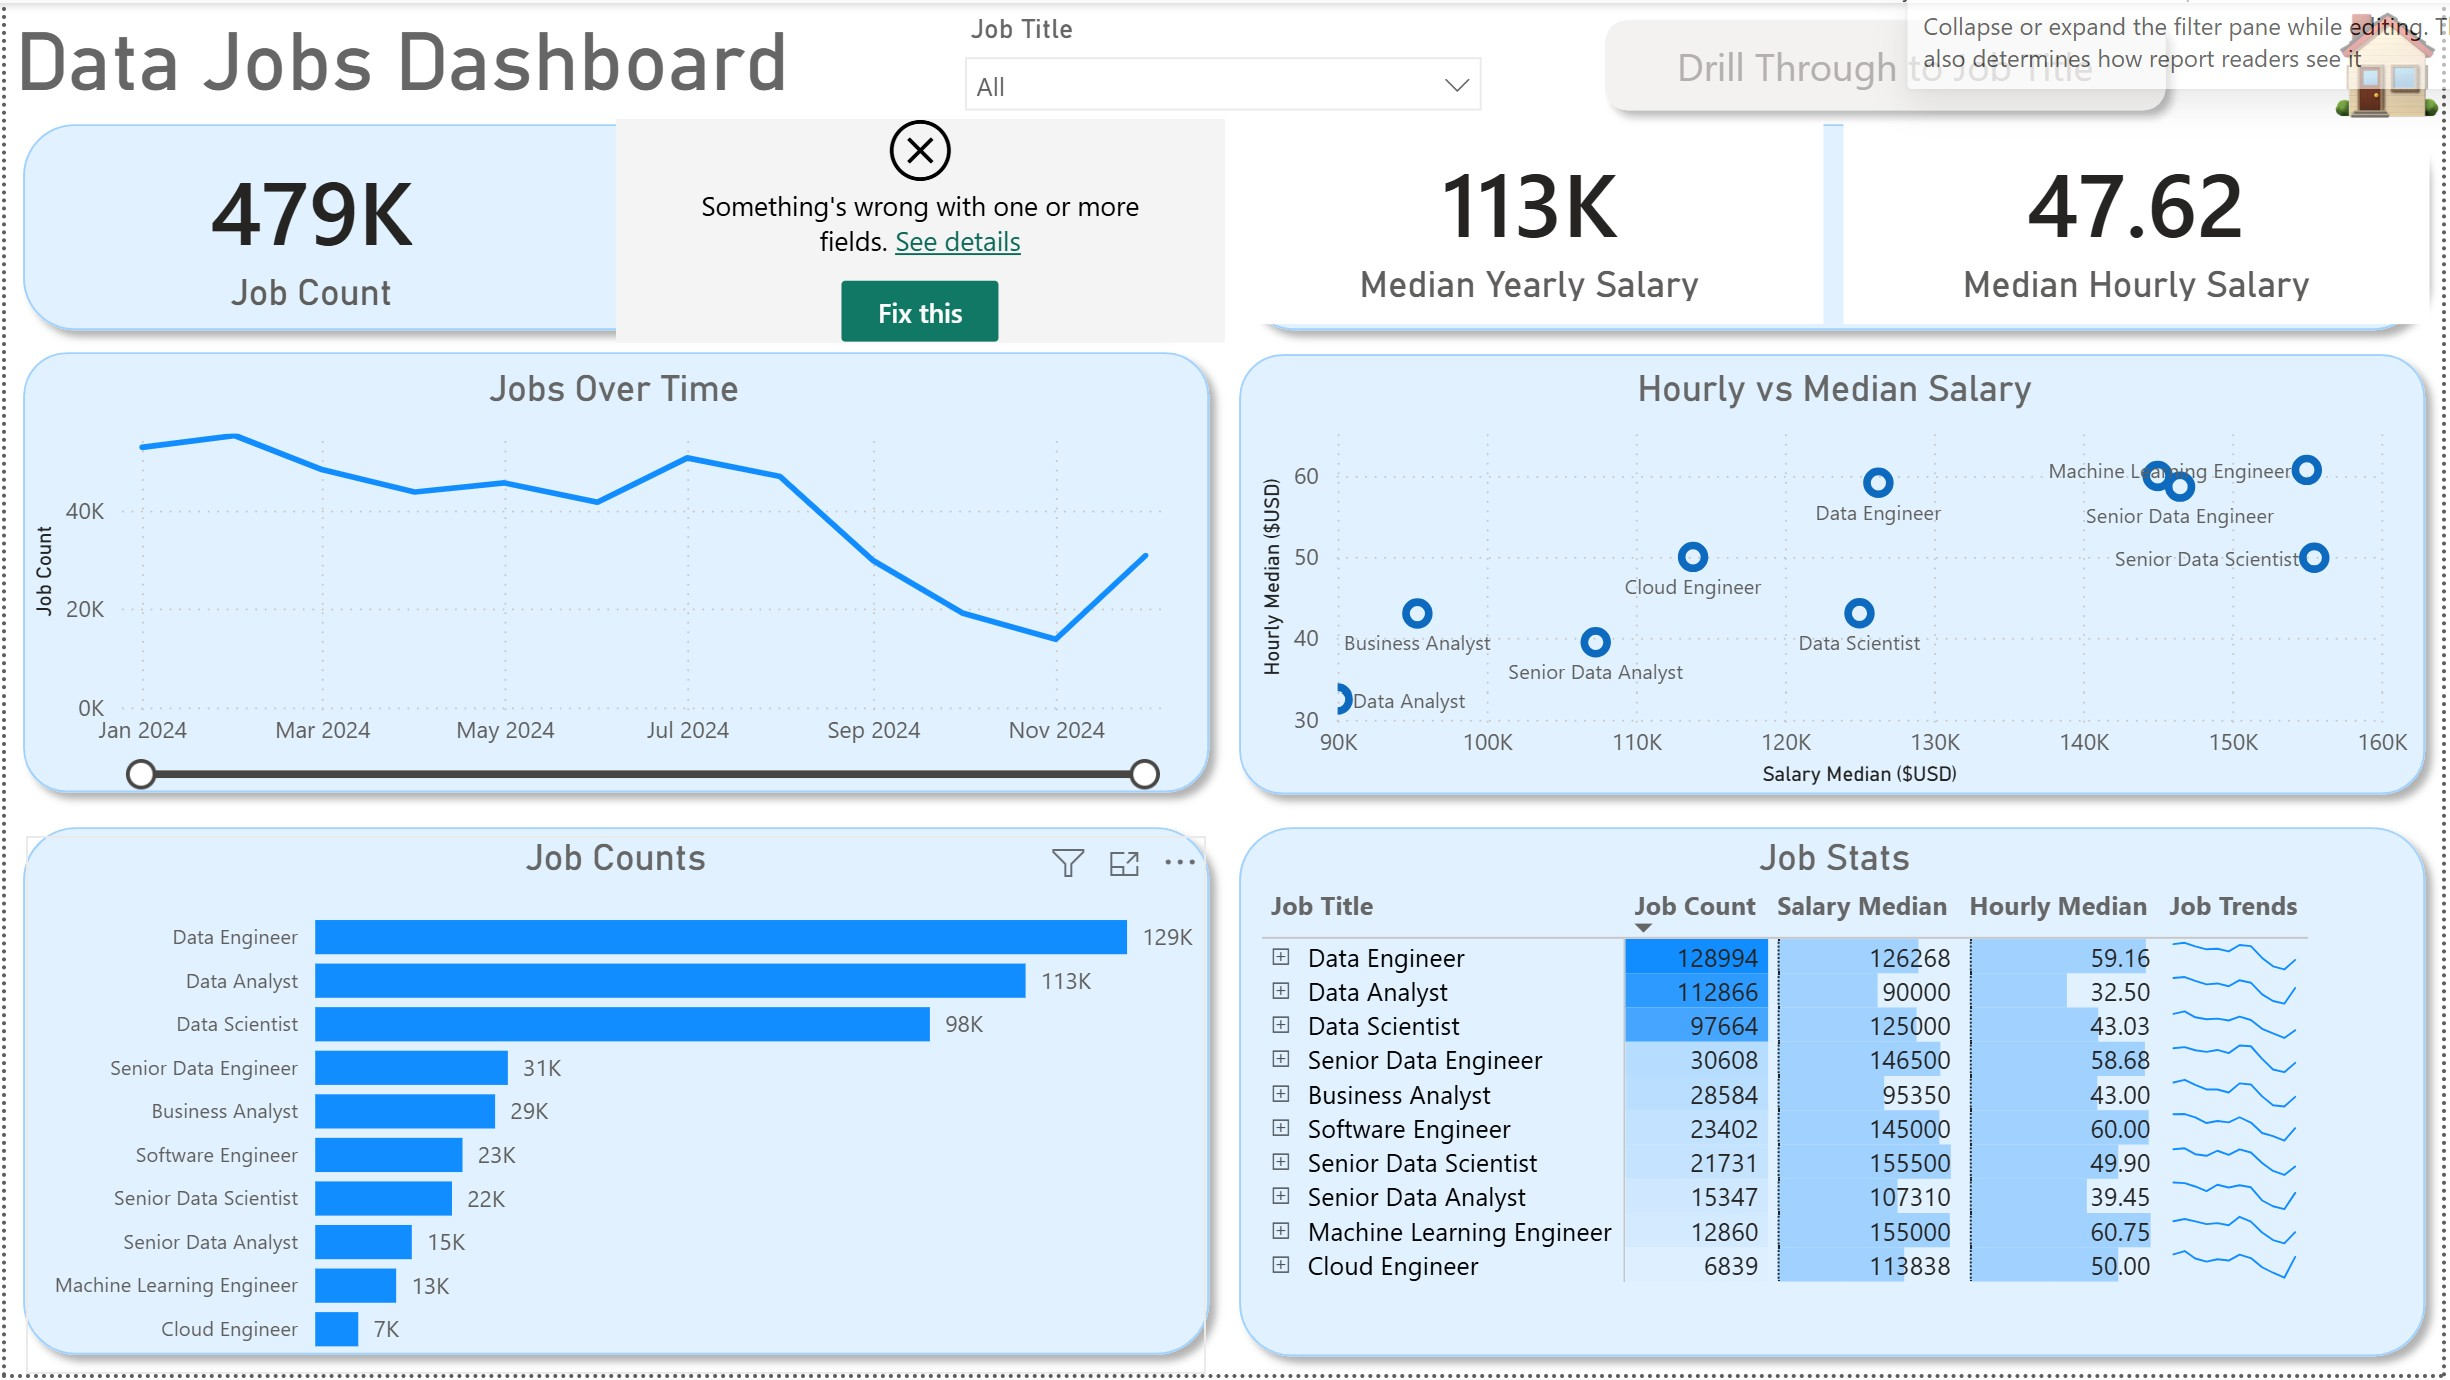

What the dashboard file says about the page in this screenshot:
{"tool":"powerbi","page":{"name":"Data Jobs Dashboard","canvas":[1280,720],"ordinal":0},"visuals":[{"type":"group","id":"g1","title":"Background","box":[0,55,1280,665],"z":0},{"type":"shape","box":[638.6,423.8,641.4,296.2],"z":0,"group":"g1"},{"type":"scatterChart","title":"Hourly vs Median Salary","fields":{"Y":["Median(job_postings_flat.salary_hour_avg)"],"X":["Median(job_postings_flat.salary_year_avg)"],"Series":["job_postings_flat.job_title_short"]},"box":[655,191.7,612.5,223.9],"z":1000},{"type":"shape","box":[0,423.8,641.4,295.2],"z":1000,"group":"g1"},{"type":"shape","box":[0,174.9,641.4,248.9],"z":2000,"group":"g1"},{"type":"pivotTable","title":"Job Stats","fields":{"Rows":["job_postings_flat.job_title_short","job_postings_flat.job_posted_date.Variation.Date Hierarchy.Quarter"],"Values":["CountNonNull(job_postings_flat.job_title_short)","Median(job_postings_flat.salary_year_avg)","Median(job_postings_flat.salary_hour_avg)","SparklineData(CountNonNull(job_postings_flat.job_title_short)_[job_postings_flat.job_posted_date.Variation.Date Hierarch"]},"box":[655,437.4,612.5,267.4],"z":2000},{"type":"cardVisual","fields":{"Data":["CountNonNull(job_postings_flat.job_title_short)"]},"box":[0.9,61.2,319.8,117.7],"z":3000},{"type":"shape","box":[638.6,175.8,641.4,248.9],"z":3000,"group":"g1"},{"type":"shape","box":[641.4,55,638.6,126.3],"z":4000,"group":"g1"},{"type":"cardVisual","fields":{"Data":["Median(job_postings_flat.salary_year_avg)"]},"box":[641.4,56.5,319.8,117.7],"z":4000},{"type":"shape","box":[0,55,638.6,126.3],"z":5000,"group":"g1"},{"type":"cardVisual","fields":{"Data":["Median(job_postings_flat.salary_hour_avg)"]},"box":[961.2,56.5,318.8,117.7],"z":5000},{"type":"actionButton","box":[831.2,0,312.5,65.4],"z":6000},{"type":"slicer","fields":{"Values":["job_postings_flat.job_title_short"]},"box":[494.3,0,291.4,80],"z":7000},{"type":"cardVisual","fields":{"Data":["job_postings_flat.Job Rating"]},"box":[320.7,61.2,319.8,117.7],"z":8000},{"type":"textbox","box":[0,0,495.7,77.1],"z":9000},{"type":"barChart","title":"Job Counts","fields":{"Category":["job_postings_flat.job_title_short"],"Y":["CountNonNull(job_postings_flat.job_title_short)"]},"box":[10.2,437.3,620.1,282.7],"z":10000},{"type":"lineChart","title":"Jobs Over Time","fields":{"Category":["job_postings_flat.job_posted_date.Variation.Date Hierarchy.Year","job_postings_flat.job_posted_date.Variation.Date Hierarchy.Quarter","job_postings_flat.job_posted_date.Variation.Date Hierarchy.Month","job_postings_flat.job_posted_date.Variation.Date Hierarchy.Day"],"Y":["CountNonNull(job_postings_flat.job_title_short)"]},"box":[9.8,191.2,620.5,224.4],"z":11000},{"type":"image","box":[1222.2,0,57.8,65.2],"z":12000}]}

Visuals, with their boxes on the page's 1280x720 design canvas (x1, y1, x2, y2). These are canvas units, not pixel positions in the 2450x1380 screenshot, which may show the page scaled, cropped or inside an application window:
"Background" group: [0, 55, 1280, 720]
shape: [639, 424, 1280, 720]
"Hourly vs Median Salary" scatterChart: [655, 192, 1268, 416]
shape: [0, 424, 641, 719]
shape: [0, 175, 641, 424]
"Job Stats" pivotTable: [655, 437, 1268, 705]
cardVisual - CountNonNull(job_postings_flat.job_title_short): [1, 61, 321, 179]
shape: [639, 176, 1280, 425]
shape: [641, 55, 1280, 181]
cardVisual - Median(job_postings_flat.salary_year_avg): [641, 56, 961, 174]
shape: [0, 55, 639, 181]
cardVisual - Median(job_postings_flat.salary_hour_avg): [961, 56, 1280, 174]
actionButton: [831, 0, 1144, 65]
slicer - job_postings_flat.job_title_short: [494, 0, 786, 80]
cardVisual - job_postings_flat.Job Rating: [321, 61, 640, 179]
textbox: [0, 0, 496, 77]
"Job Counts" barChart: [10, 437, 630, 720]
"Jobs Over Time" lineChart: [10, 191, 630, 416]
image: [1222, 0, 1280, 65]
